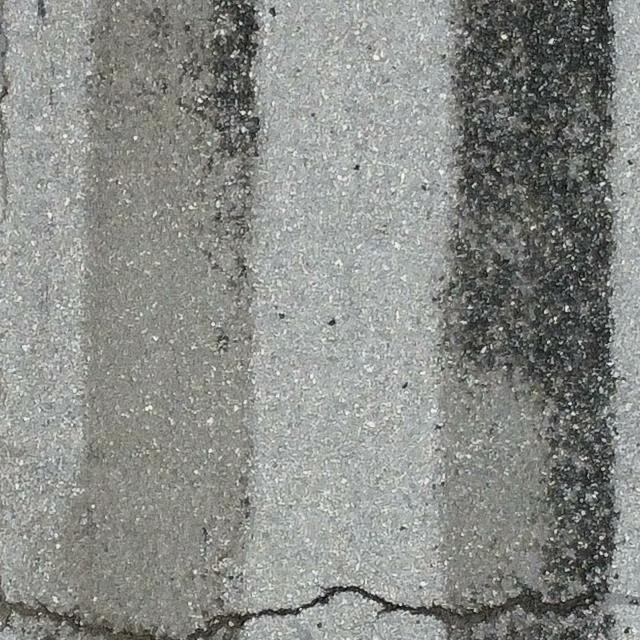TransverseCrack: (1, 583, 638, 640)
